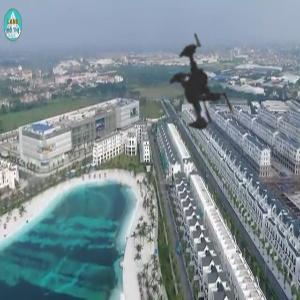drone: (107, 8, 276, 177)
